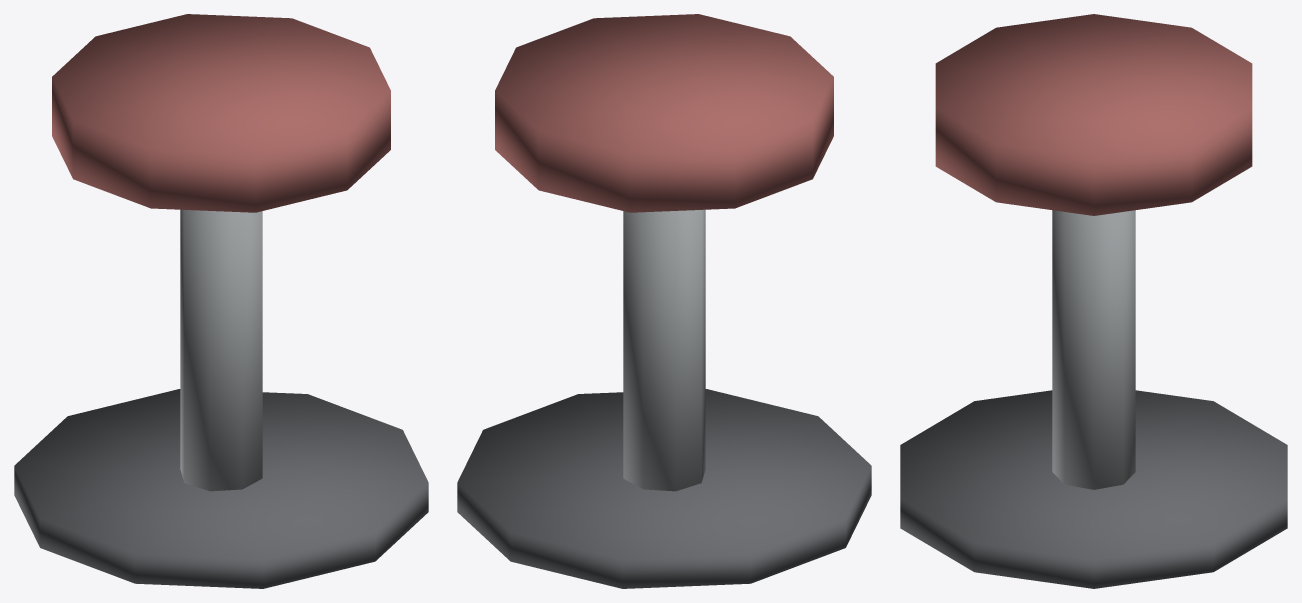
Rendered from diner_counter_stool_module__squat.glb.
3 renders of one model, left to right at view 1: azimuth 30°, elevation 25°; view 2: azimuth 150°, elevation 25°; view 3: azimuth 270°, elevation 25°, orthographic.
Visible parts, largest first — view 1: world; view 2: world; view 3: world.
Boxes of the visible parts, bbox=[...] form: world: bbox=[14, 14, 428, 588]; world: bbox=[457, 14, 871, 588]; world: bbox=[900, 14, 1287, 588].
Size of the model in its own units: 0.484 by 0.5586 by 0.4519.
